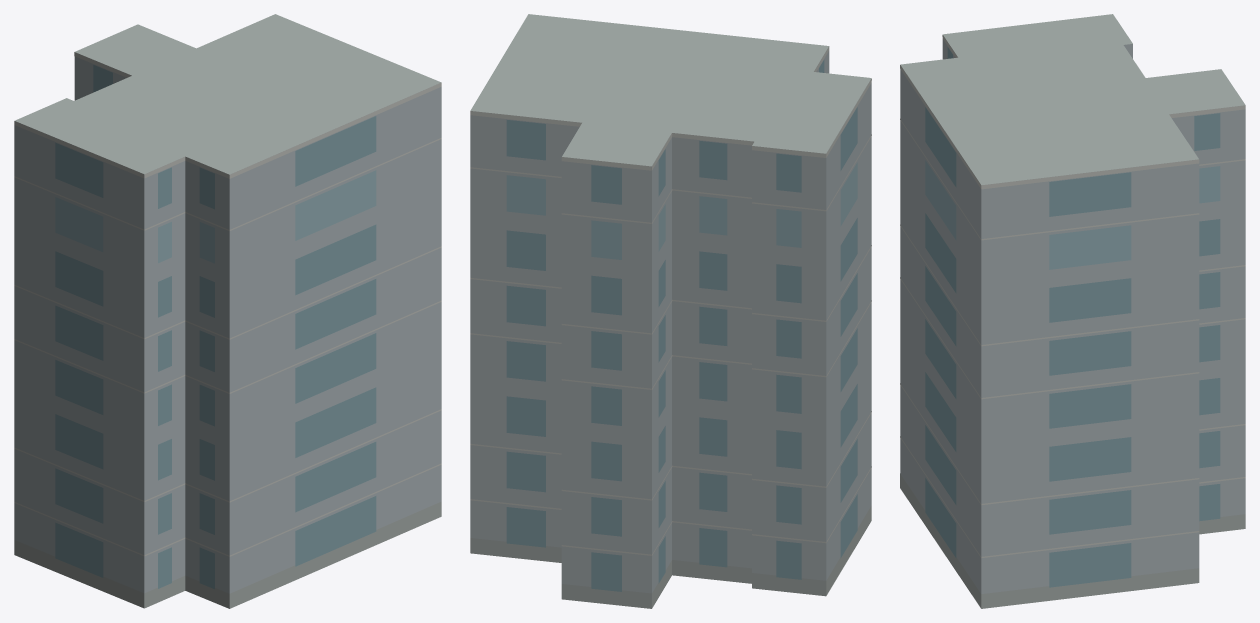
Rendered from survey-upis-32558091.glb.
3 renders of one model, left to right at view 1: azimuth 30°, elevation 25°; view 2: azimuth 150°, elevation 25°; view 3: azimuth 270°, elevation 25°, orthographic. The views are drawn at different scales.
Visible parts, largest first — view 1: survey-upis-32558091.tmp; view 2: survey-upis-32558091.tmp; view 3: survey-upis-32558091.tmp.
Boxes of the visible parts, left/top/right/bottom form: survey-upis-32558091.tmp: left=14, top=14, right=441, bottom=608; survey-upis-32558091.tmp: left=470, top=14, right=871, bottom=608; survey-upis-32558091.tmp: left=900, top=14, right=1245, bottom=608.
Size of the model in its own units: 21.52 by 24.8 by 18.35.
